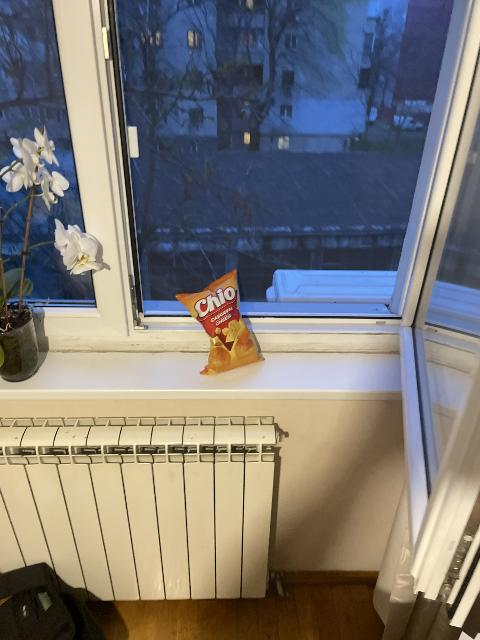Chio Cascaval 125g: (175, 270, 266, 373)
